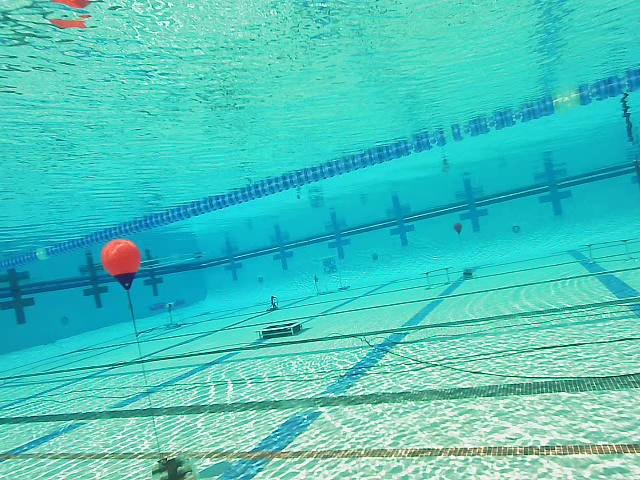buoy: (101, 239, 142, 291), (452, 222, 462, 235)
dropper: (252, 320, 303, 340)
table: (148, 298, 185, 330)
torpedo: (320, 255, 339, 277)
